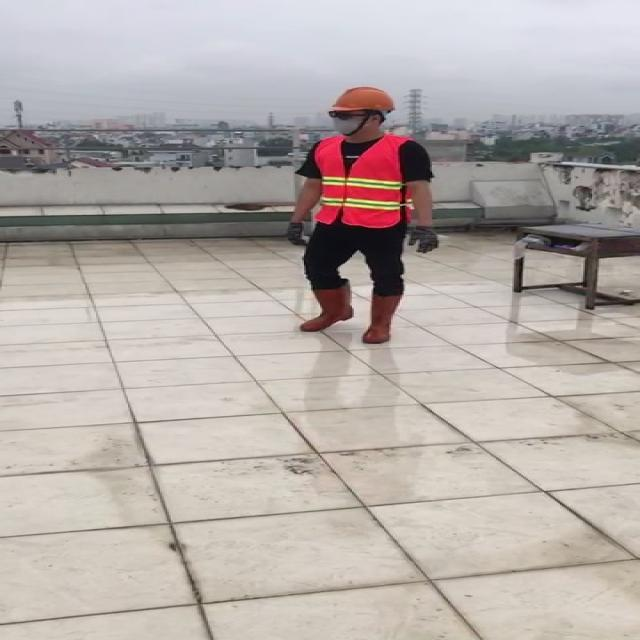boots: (302, 282, 356, 332), (361, 295, 400, 344)
